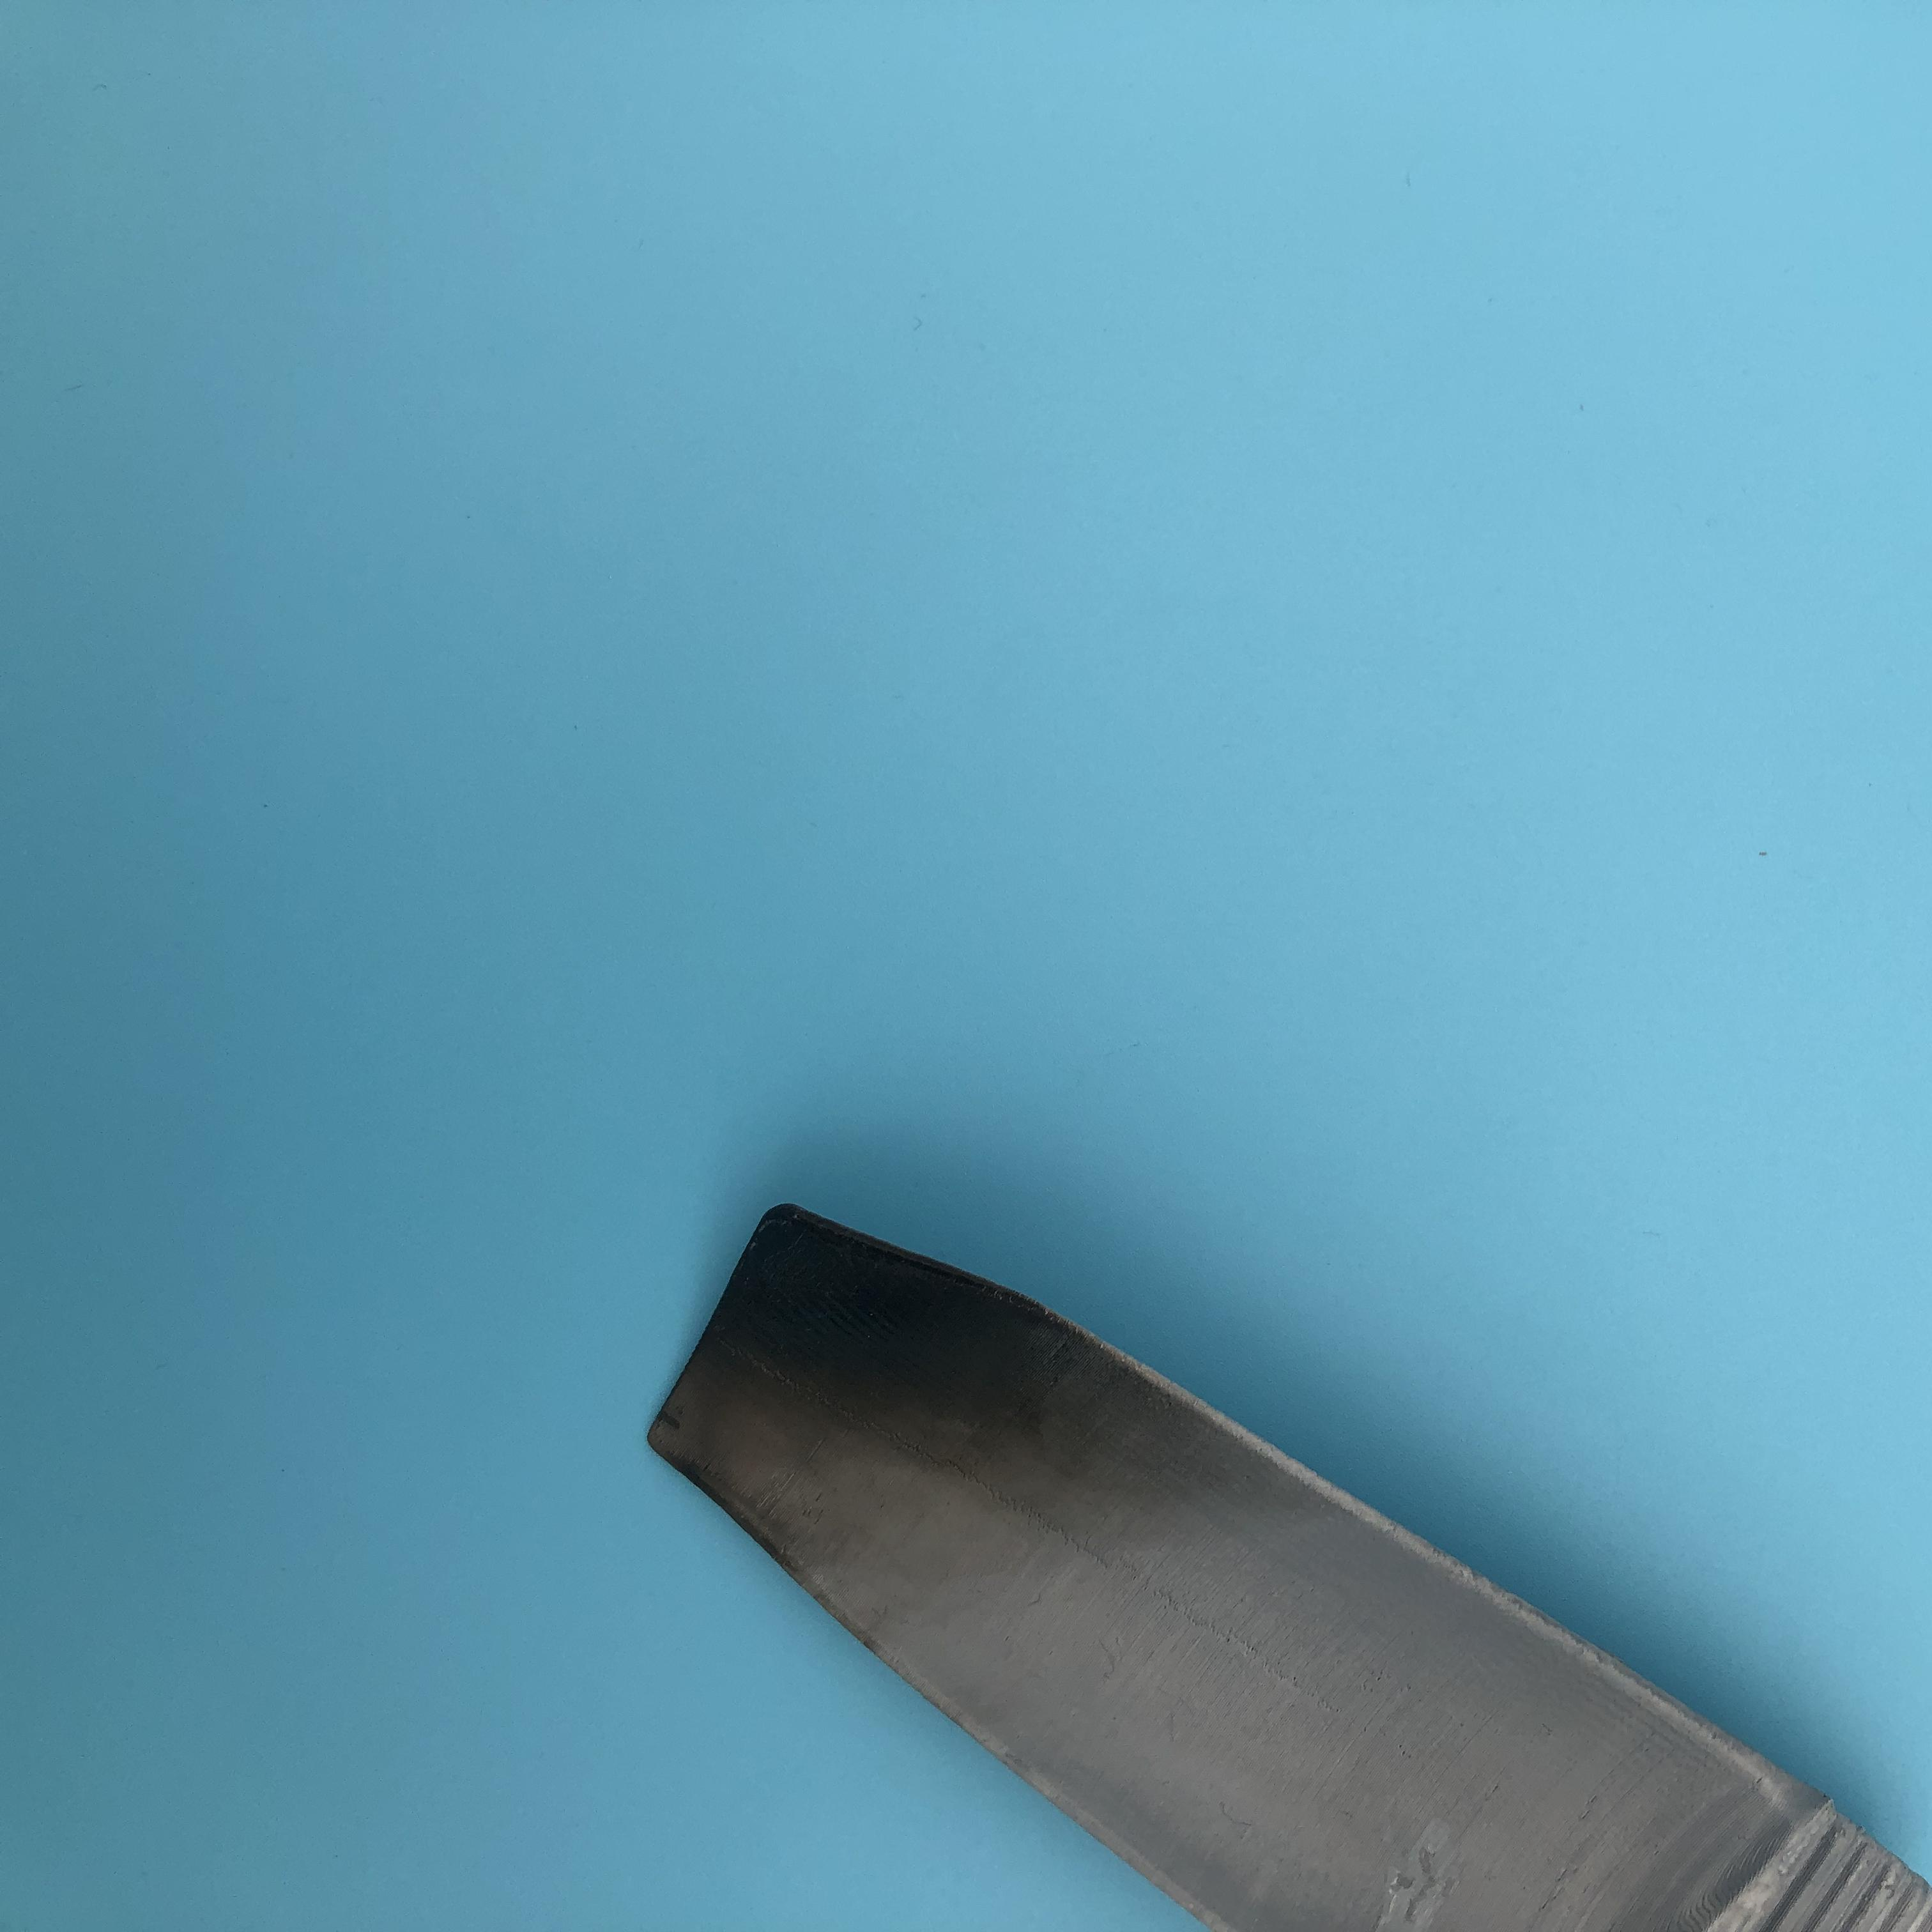ablation: (692, 1240, 1138, 1518)
